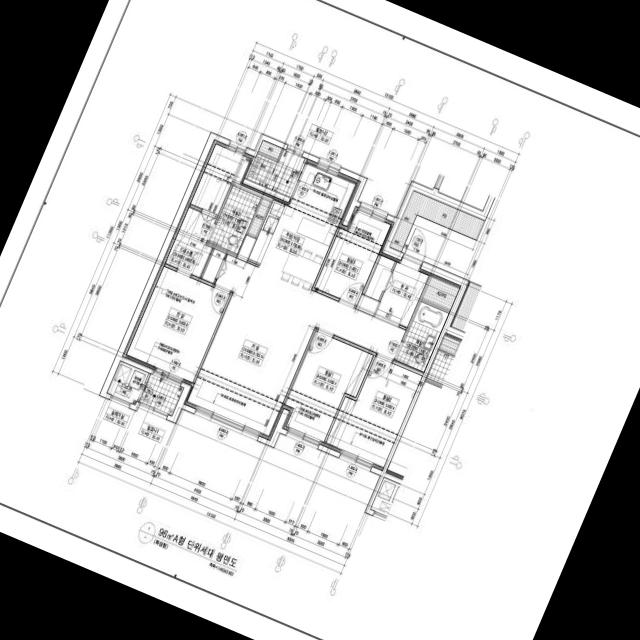background: (0, 0, 640, 640)
space_balconi: (246, 150, 304, 196), (139, 374, 183, 415)
space_bedroom: (122, 265, 229, 385), (324, 356, 422, 470), (282, 331, 372, 445), (314, 206, 393, 305)
space_dressroom: (187, 140, 253, 215), (162, 206, 215, 277)
space_front: (374, 260, 429, 327)
space_kitchen: (246, 159, 359, 287)
space_living_room: (184, 254, 405, 440)
space_other: (401, 215, 496, 286), (389, 191, 484, 251), (363, 252, 395, 300), (450, 282, 481, 331), (421, 274, 460, 310), (247, 197, 270, 237), (201, 249, 225, 283), (258, 140, 281, 159)
space_outdoor_room: (106, 361, 148, 404)
space_toilet: (395, 301, 448, 372), (209, 186, 260, 254)
